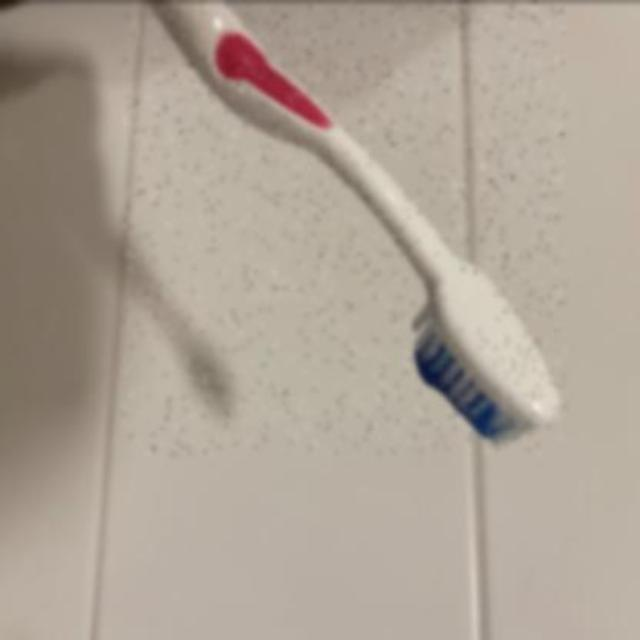toothbrush: (124, 1, 566, 453)
